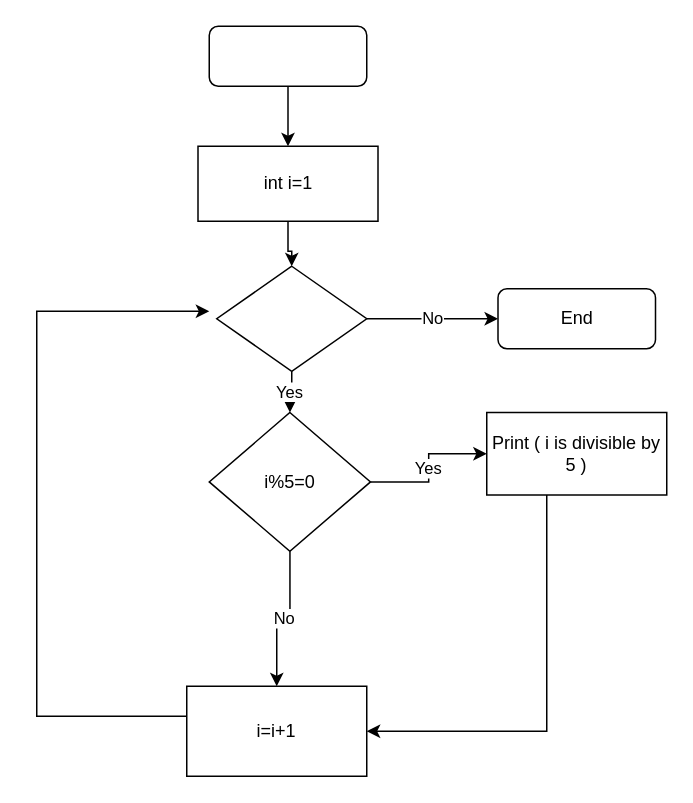
The diagram is 693 pixels wide and 803 high, and some of its shapes have lost their labels. Here are the shapes that lost their labels. From the top down, the centre of each, then its label:
(287,55): Start
(291,318): i<=30
